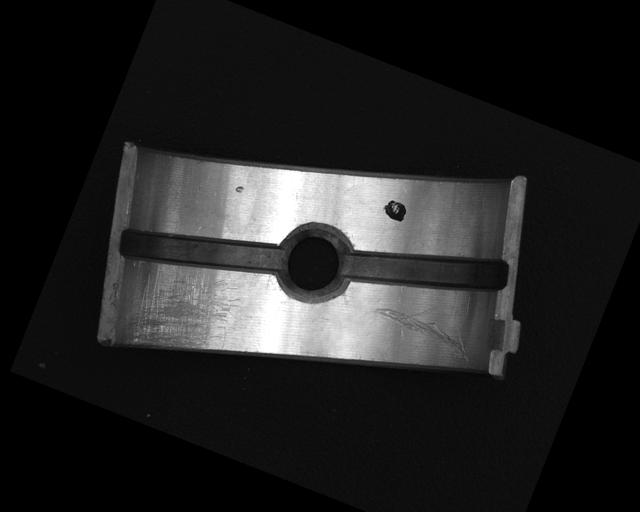blot: (380, 196, 410, 224)
bruise: (233, 183, 246, 194)
gap: (338, 204, 515, 334), (113, 191, 286, 311)
hole: (264, 215, 362, 313)
nick: (365, 282, 484, 362)
scratch: (118, 248, 248, 375)
